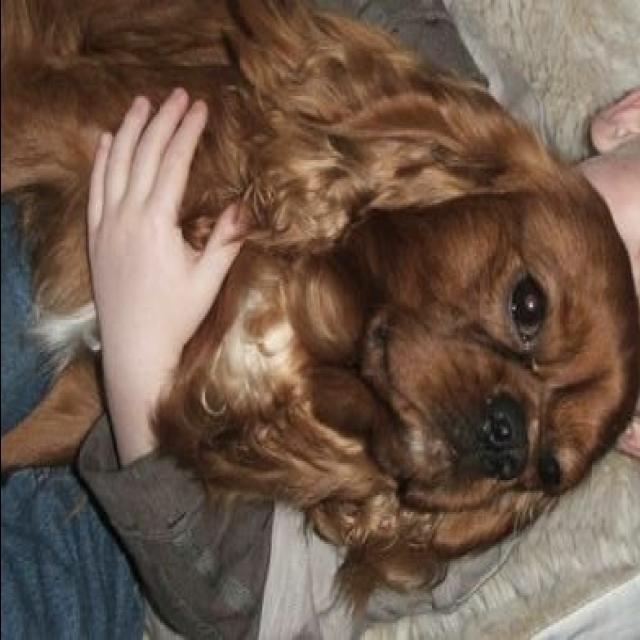blenheim_spaniel: (2, 2, 640, 625)
